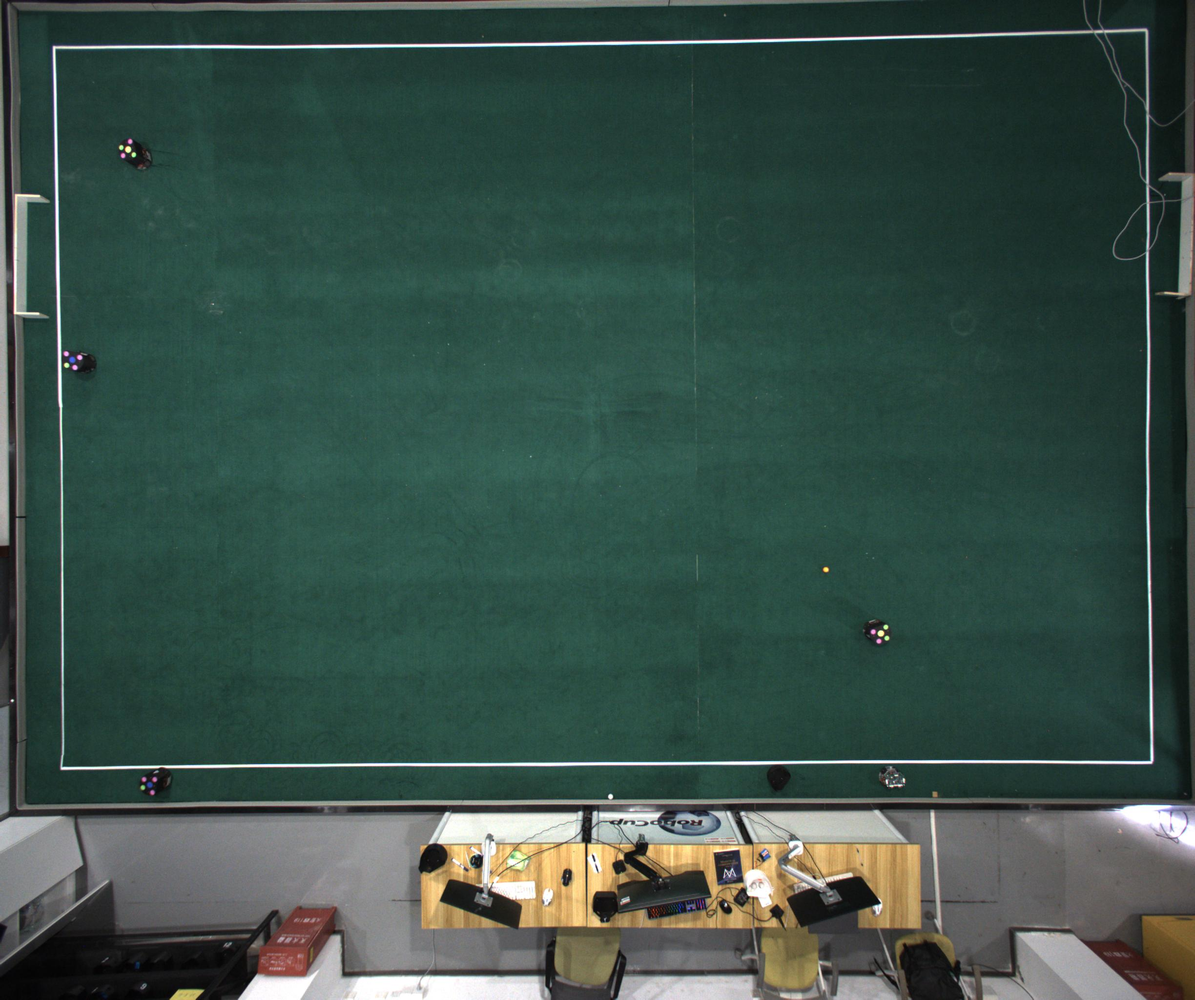ball: (822, 566, 829, 573)
blue_bot: (62, 349, 86, 372), (139, 776, 160, 796)
yellow_bot: (117, 138, 137, 161), (870, 624, 892, 644)
